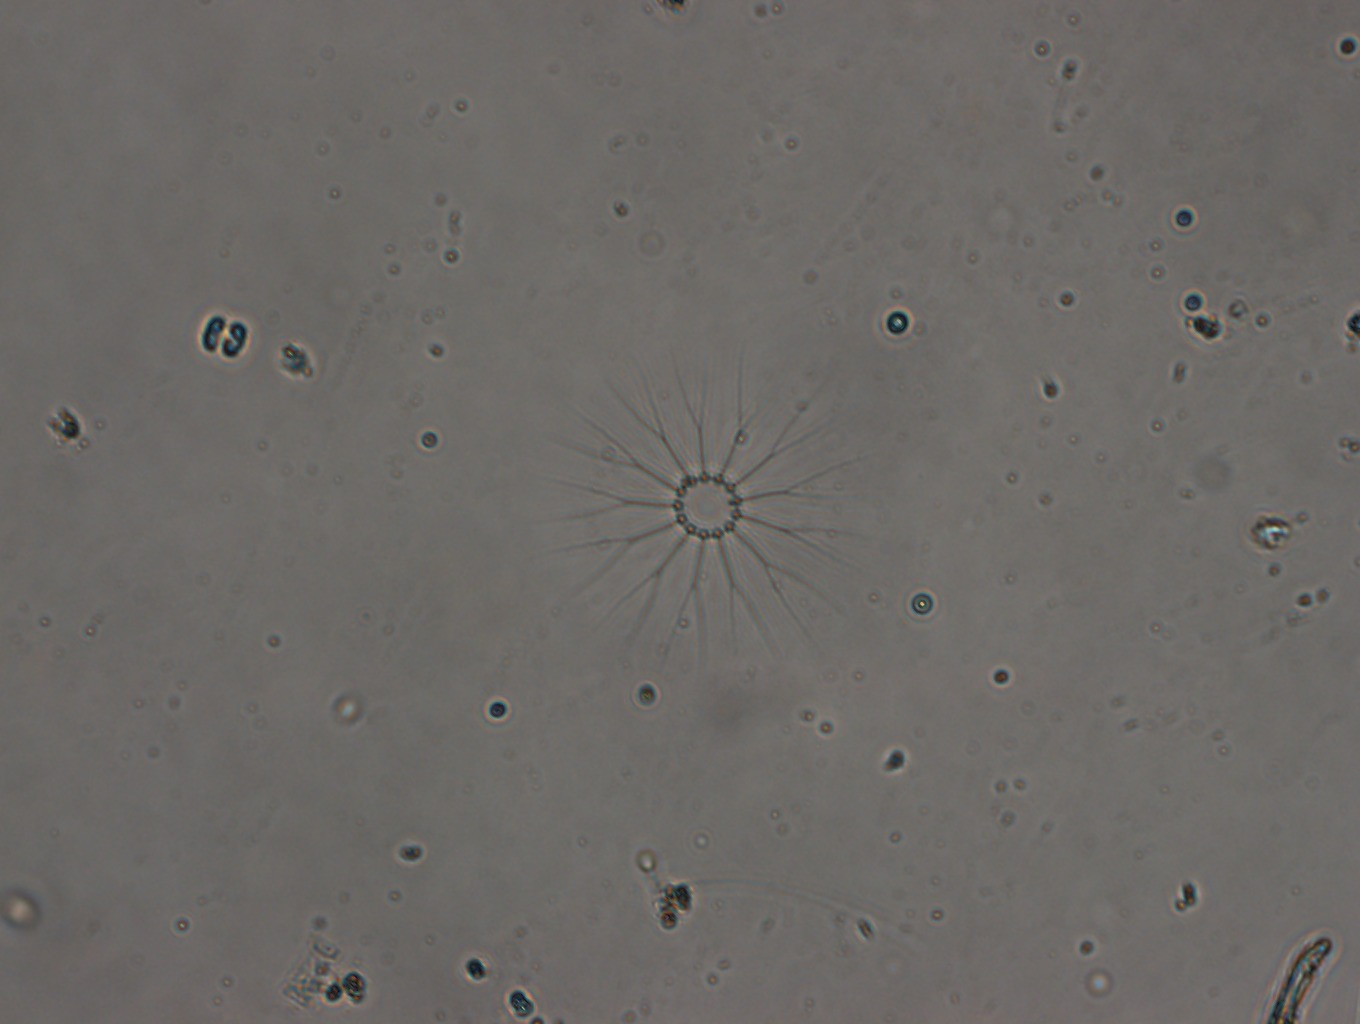bacteriastrum: (578, 361, 869, 665)
